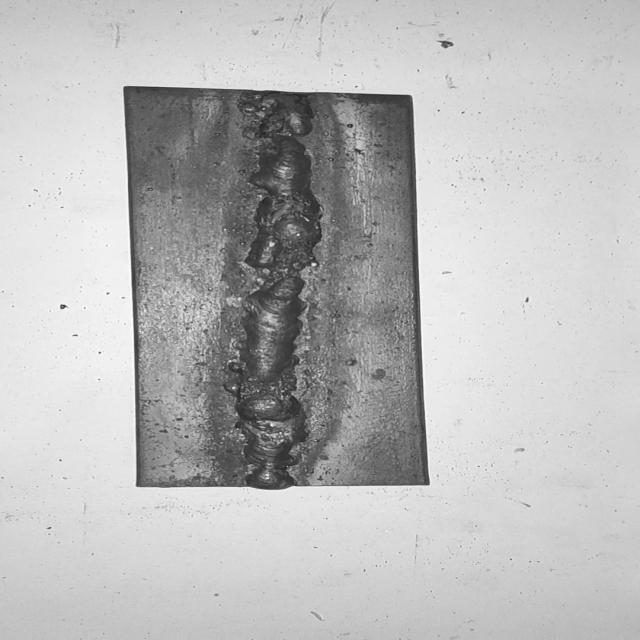Defect: (211, 361, 313, 452), (228, 232, 326, 312), (234, 90, 318, 162)
Welding Line: (236, 92, 313, 488)
Workpiece: (116, 80, 442, 492)
